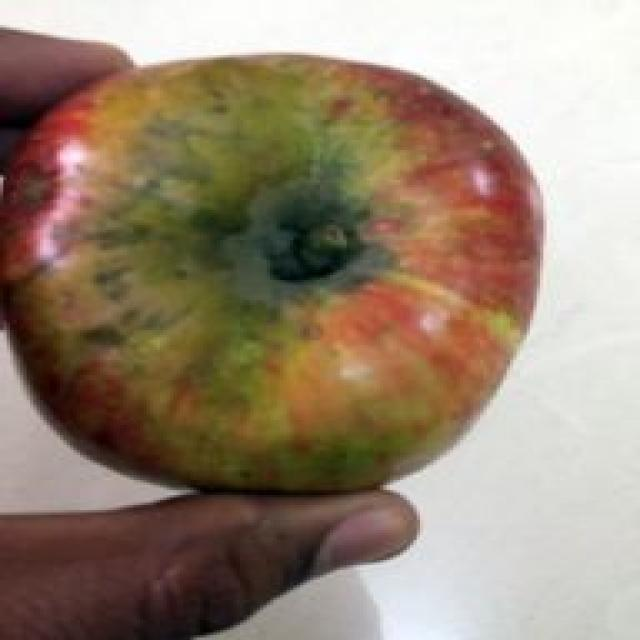Bad_Apple: (7, 55, 538, 491)
